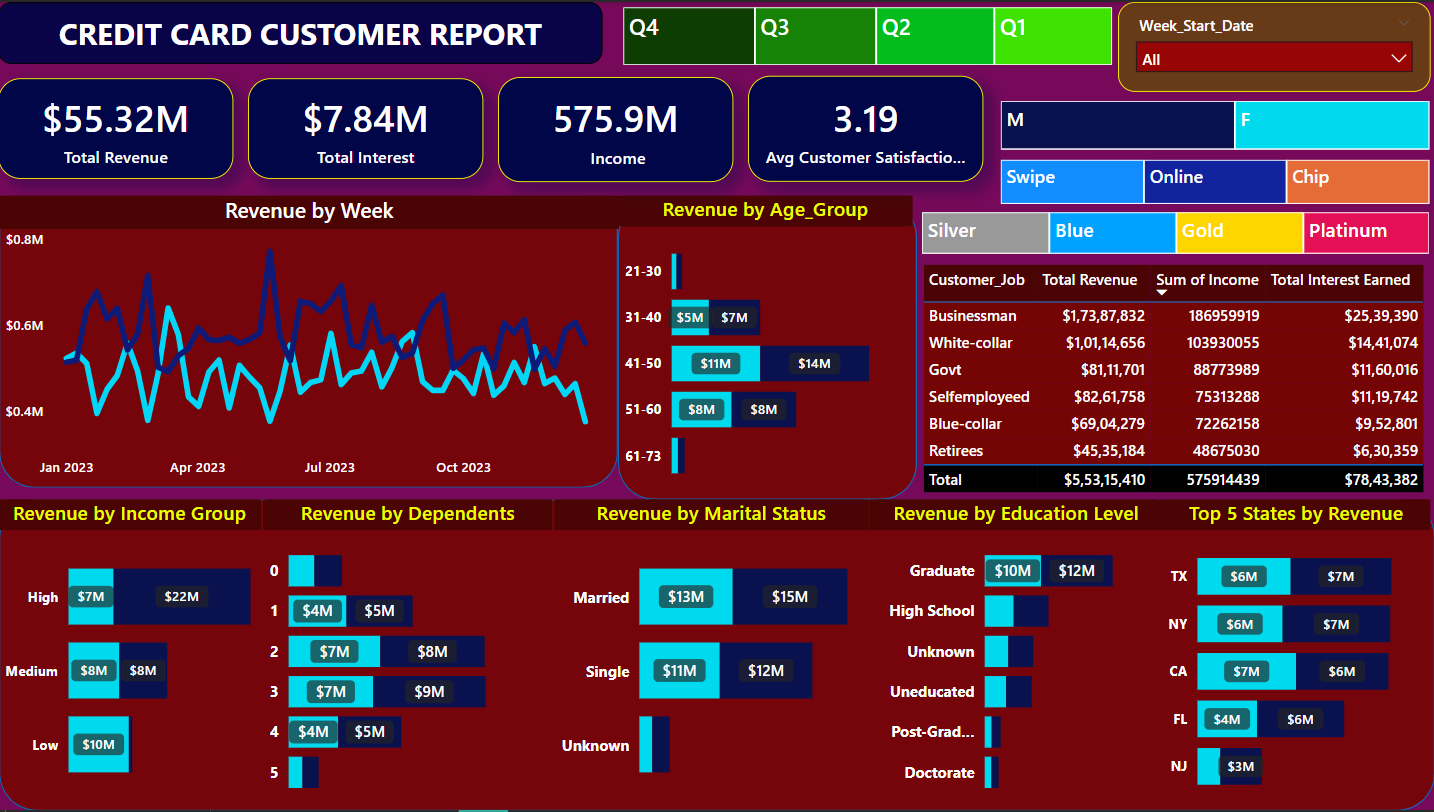

The dashboard page shown, as its layout file describes it:
{"tool":"powerbi","page":{"name":"Credit Card Customer Report","canvas":[1280,720],"ordinal":1},"visuals":[{"type":"shape","box":[1.2,442.9,1278.5,277.3],"z":0},{"type":"shape","box":[1.2,173,550.9,260.1],"z":1000},{"type":"shape","box":[552.2,176.7,266.3,266.3],"z":2000},{"type":"textbox","box":[0,0,538.8,55],"z":3000},{"type":"barChart","title":"Revenue by Age_Group","fields":{"Category":["Customer_Details.Age_Group"],"Y":["Sum(Credit_Card.Revenue)"],"Series":["Customer_Details.Gender"]},"box":[552.2,173,262.6,269.9],"z":4000},{"type":"card","fields":{"Values":["Sum(Credit_Card.Revenue)"]},"box":[0,68.3,209.8,89.6],"z":5000},{"type":"card","fields":{"Values":["Sum(Credit_Card.Interest_Earned)"]},"box":[222.5,68.3,209.8,89.6],"z":6000},{"type":"card","fields":{"Values":["Sum(Customer_Details.Income)"]},"box":[445,66.4,209.8,93.3],"z":7000},{"type":"card","fields":{"Values":["Avg(Customer_Details.Cust_Satisfaction_Score)"]},"box":[667.5,65.8,209.8,94.5],"z":8000},{"type":"slicer","fields":{"Values":["Credit_Card.Week_Start_Date"]},"box":[997.6,0,278.5,79.8],"z":9000},{"type":"treemap","fields":{"Group":["Credit_Card.Qtr"],"Values":["Avg(Credit_Card.Client_Num)"]},"box":[552.5,0,445,61.2],"z":10000},{"type":"treemap","fields":{"Values":["Avg(Credit_Card.Client_Num)"],"Group":["Credit_Card.Card_Category"]},"box":[818.4,182.8,461.4,46.6],"z":11000},{"type":"treemap","fields":{"Values":["Avg(Credit_Card.Client_Num)"],"Group":["Credit_Card.Use_Chip"]},"box":[888.3,136.2,391.4,49.1],"z":12000},{"type":"lineChart","title":"Revenue by Week","fields":{"Y":["Sum(Credit_Card.Revenue)"],"Category":["Credit_Card.Week_Start_Date.Variation.Date Hierarchy.Year","Credit_Card.Week_Start_Date.Variation.Date Hierarchy.Month","Credit_Card.Week_Start_Date.Variation.Date Hierarchy.Day"],"Series":["Customer_Details.Gender"]},"box":[1.2,173,552.2,260.1],"z":13000},{"type":"treemap","fields":{"Values":["Sum(Credit_Card.Revenue)"],"Group":["Customer_Details.Gender"]},"box":[888.3,83.4,391.4,52.8],"z":14000},{"type":"barChart","title":"Revenue by Income Group","fields":{"Category":["Customer_Details.Income_Group"],"Y":["Sum(Credit_Card.Revenue)"],"Series":["Customer_Details.Gender"]},"box":[0,442.9,234.4,277.3],"z":15000},{"type":"barChart","title":"Revenue by Education Level","fields":{"Category":["Customer_Details.Education_Level"],"Y":["Sum(Credit_Card.Revenue)"],"Series":["Customer_Details.Gender"]},"box":[775.5,442.9,261.4,277.3],"z":16000},{"type":"barChart","title":"Revenue by Dependents","fields":{"Category":["Customer_Details.Dependent_Count"],"Y":["Sum(Credit_Card.Revenue)"],"Series":["Customer_Details.Gender"]},"box":[235.6,442.9,257.7,277.3],"z":17000},{"type":"barChart","title":"Top 5 States  by Revenue","fields":{"Category":["Customer_Details.state_cd"],"Y":["Sum(Credit_Card.Revenue)"],"Series":["Customer_Details.Gender"]},"box":[1036.8,442.9,239.3,277.3],"z":18000},{"type":"tableEx","fields":{"Values":["Customer_Details.Customer_Job","Sum(Credit_Card.Revenue)","Sum(Customer_Details.Income)","Sum(Credit_Card.Interest_Earned)"]},"box":[818.4,229.4,461.4,213.5],"z":19000},{"type":"barChart","title":"Revenue by Marital Status","fields":{"Category":["Customer_Details.Marital_Status"],"Y":["Sum(Credit_Card.Revenue)"],"Series":["Customer_Details.Gender"]},"box":[495.7,442.9,279.8,277.3],"z":20000}]}

Visuals, with their boxes in screenshot pixels (x1, y1, x2, y2), scaled from the page's 1280x720 canvas onto the 1434x812 screenshot:
shape: [1,499,1433,811]
shape: [1,195,619,488]
shape: [619,199,917,500]
textbox: [0,0,604,62]
"Revenue by Age_Group" barChart: [619,195,913,499]
card - Sum(Credit_Card.Revenue): [0,77,235,178]
card - Sum(Credit_Card.Interest_Earned): [249,77,484,178]
card - Sum(Customer_Details.Income): [499,75,734,180]
card - Avg(Customer_Details.Cust_Satisfaction_Score): [748,74,983,181]
slicer - Credit_Card.Week_Start_Date: [1118,0,1430,90]
treemap - Credit_Card.Qtr x Avg(Credit_Card.Client_Num): [619,0,1118,69]
treemap - Avg(Credit_Card.Client_Num) x Credit_Card.Card_Category: [917,206,1433,259]
treemap - Avg(Credit_Card.Client_Num) x Credit_Card.Use_Chip: [995,154,1433,209]
"Revenue by Week" lineChart: [1,195,620,488]
treemap - Sum(Credit_Card.Revenue) x Customer_Details.Gender: [995,94,1433,154]
"Revenue by Income Group" barChart: [0,499,263,811]
"Revenue by Education Level" barChart: [869,499,1162,811]
"Revenue by Dependents" barChart: [264,499,553,811]
"Top 5 States  by Revenue" barChart: [1162,499,1430,811]
tableEx - Customer_Details.Customer_Job x Sum(Credit_Card.Revenue): [917,259,1433,499]
"Revenue by Marital Status" barChart: [555,499,869,811]
